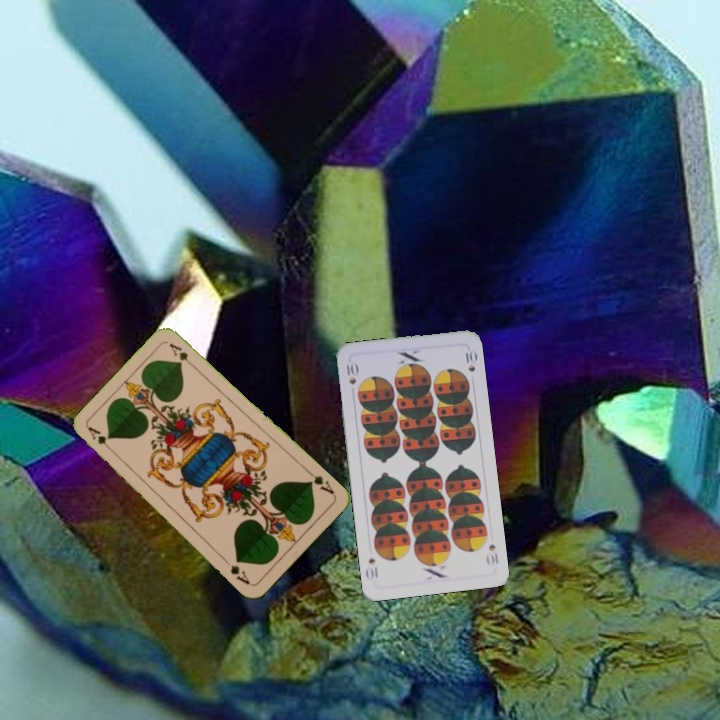GA: (84, 423, 117, 456), (303, 467, 337, 497)
S10: (483, 540, 501, 568), (342, 360, 360, 387)
